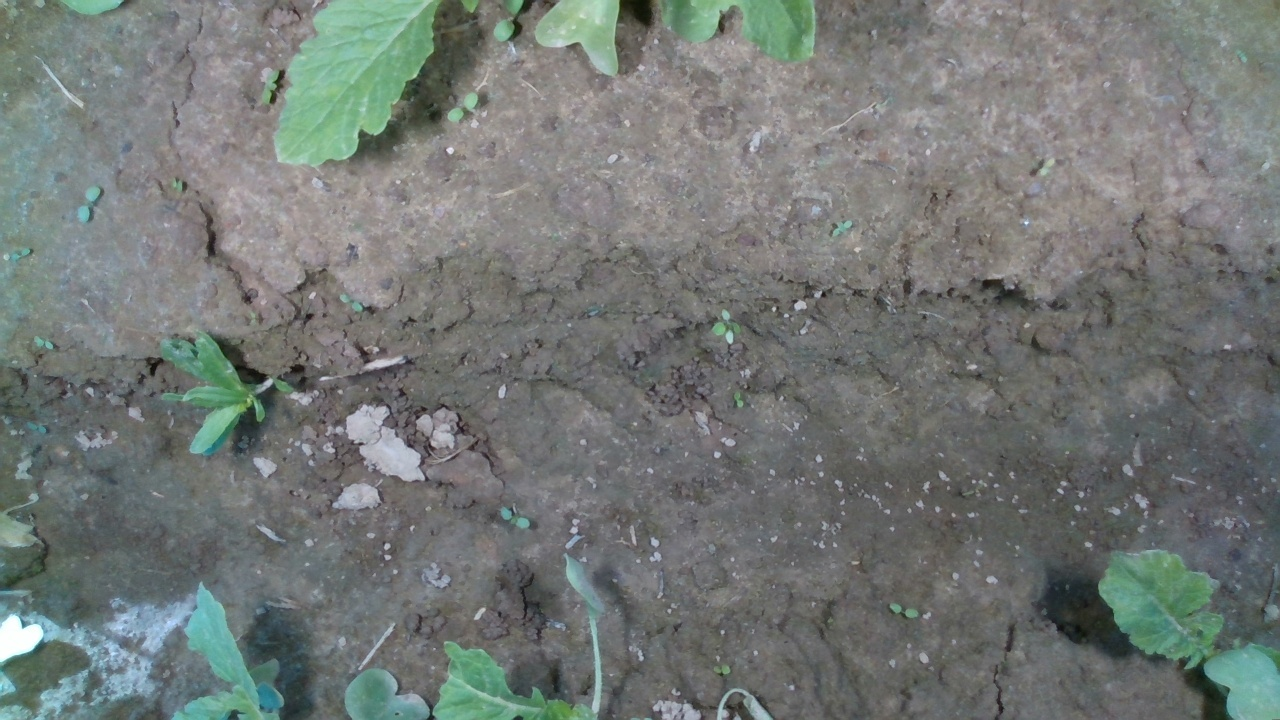weed: (446, 90, 480, 125), (709, 307, 741, 344), (76, 183, 102, 226), (258, 67, 280, 107), (499, 505, 532, 530), (887, 600, 921, 620), (338, 291, 365, 313), (829, 218, 854, 238), (1038, 155, 1056, 178), (32, 333, 55, 351), (9, 246, 32, 262), (168, 176, 185, 194), (710, 661, 731, 675), (732, 389, 745, 410)
